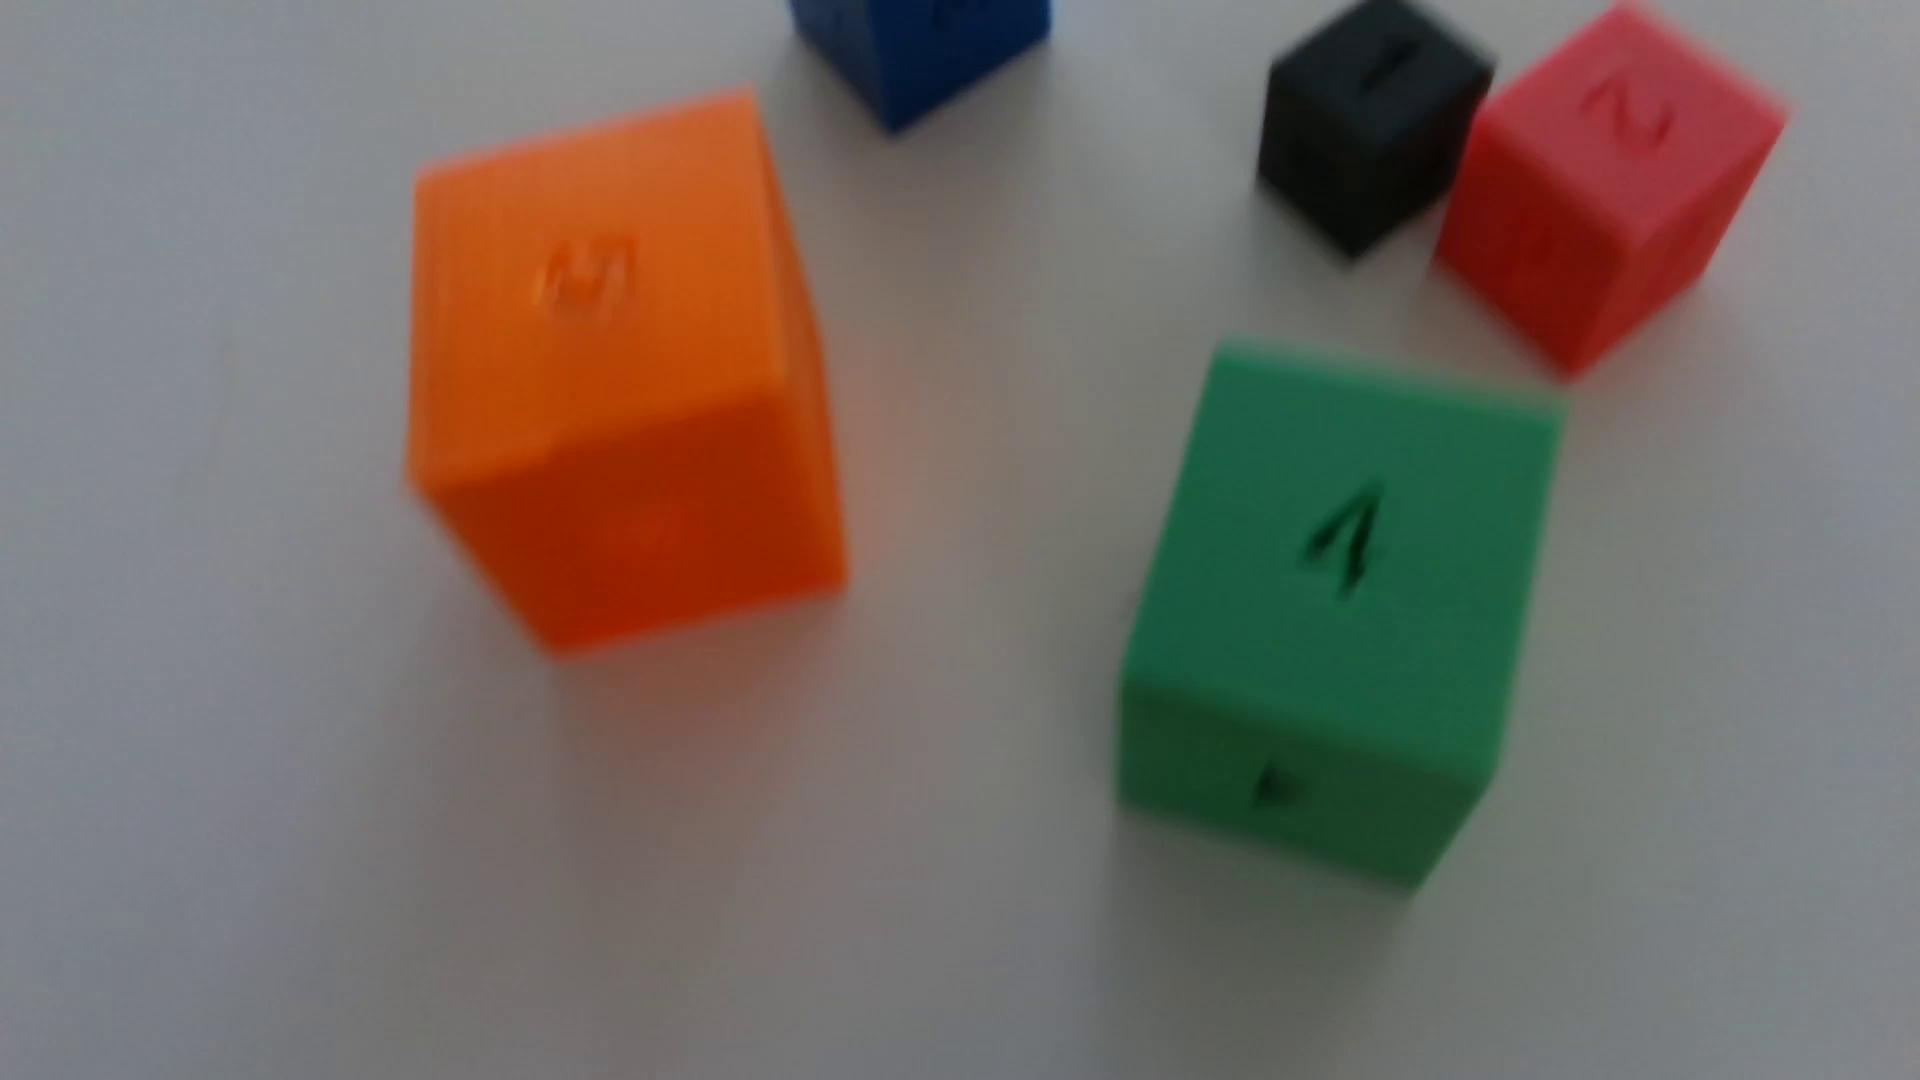black: (1255, 0, 1494, 262)
blue: (789, 0, 1051, 136)
green: (1117, 345, 1561, 889)
orange: (407, 95, 847, 655)
red: (1433, 4, 1785, 380)
